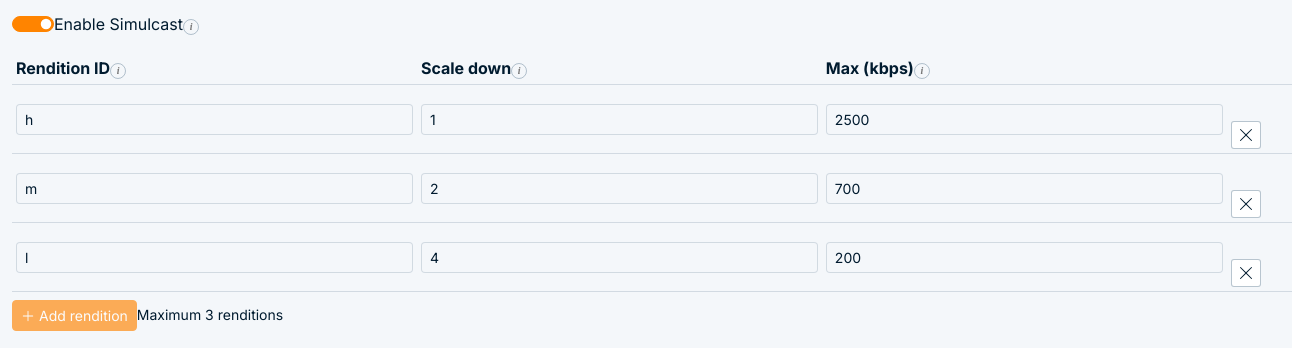
Test case: the simulcast table › drops the limit note below the limit
Click the button named "Remove rendition l" at (1246, 273), box [1231,259,1261,287]
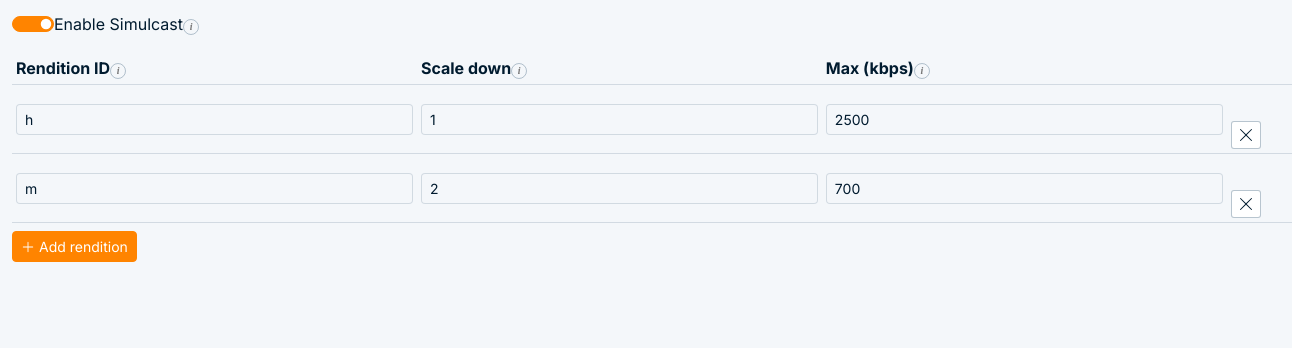
Now the button "Add rendition" is enabled, box [12,231,137,262]
Now the text "Maximum 3 renditions" is gone
